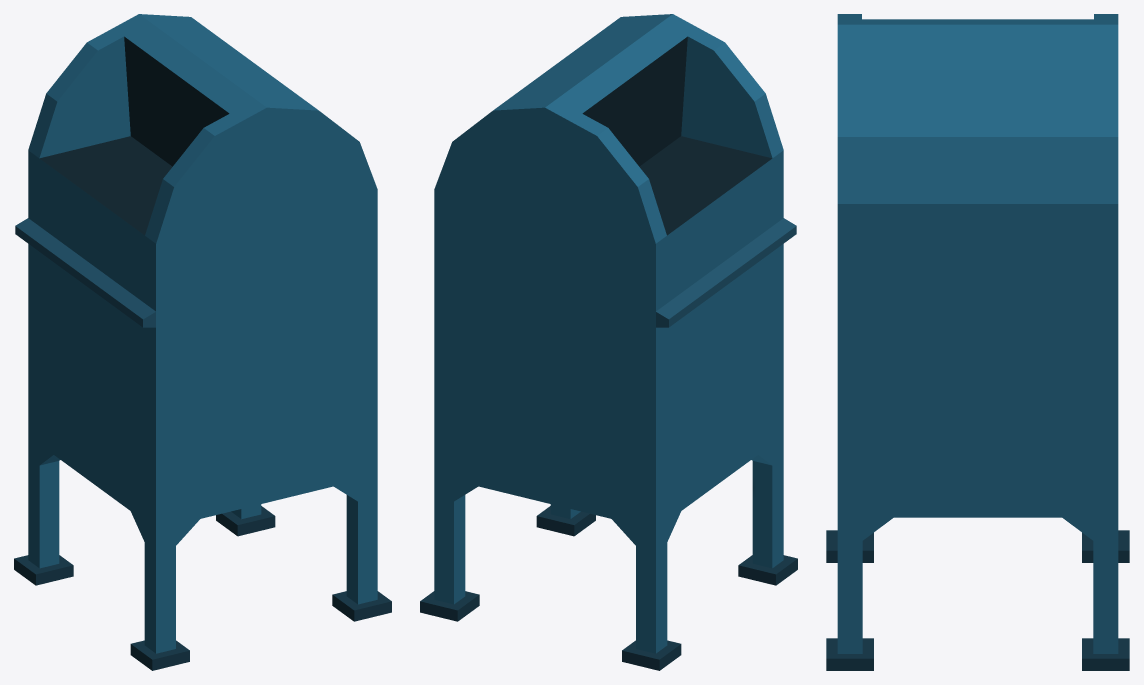
Rendered from Mail_box.fbx.
The picture shows the model from 3 angles, left to right: view 1: azimuth 30°, elevation 25°; view 2: azimuth 150°, elevation 25°; view 3: azimuth 270°, elevation 25°; orthographic projection. The views are drawn at different scales.
Parts seen in each view (by area): view 1: Cube; view 2: Cube; view 3: Cube.
Part boxes in pixels (bbox=[...]): Cube: bbox=[14, 14, 391, 670]; Cube: bbox=[420, 14, 797, 670]; Cube: bbox=[826, 14, 1129, 670].
Bounding box in the file's own units: 49.69 × 103 × 48.86.
1 material, 1 textured.
